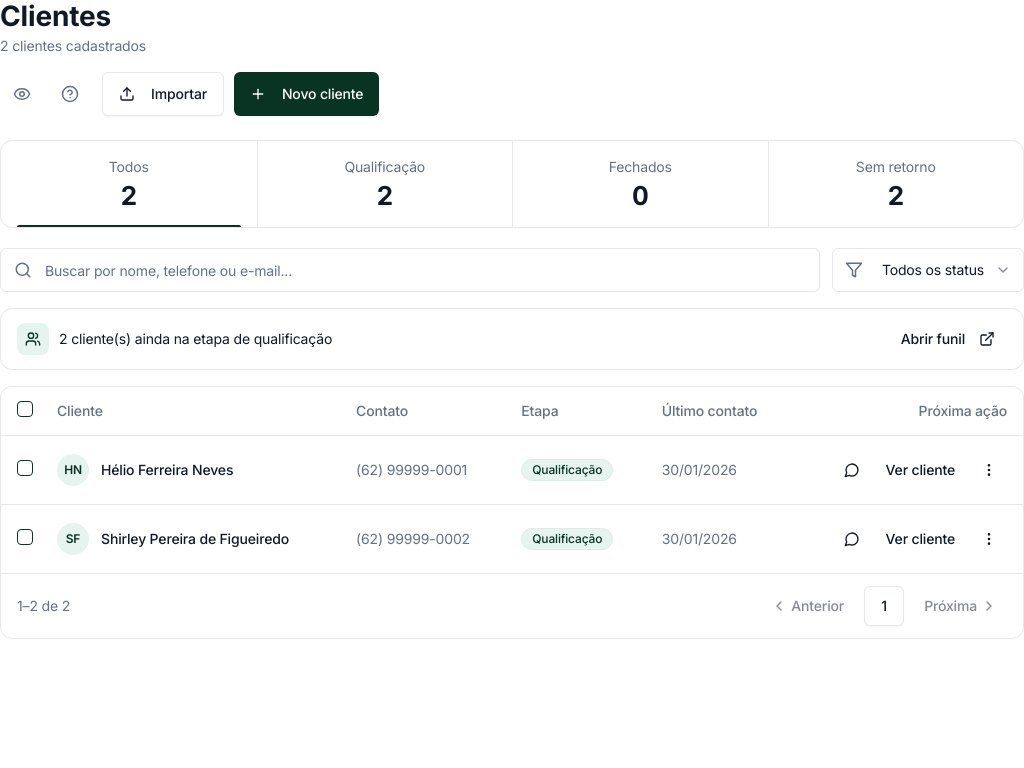
Test: "Mostrar na lista" fecha a caixa e destaca a linha do cliente
Step 1. Click the checkbox named "Selecionar Hélio Ferreira Neves" → point(25, 468), box 17,460 -> 33,476
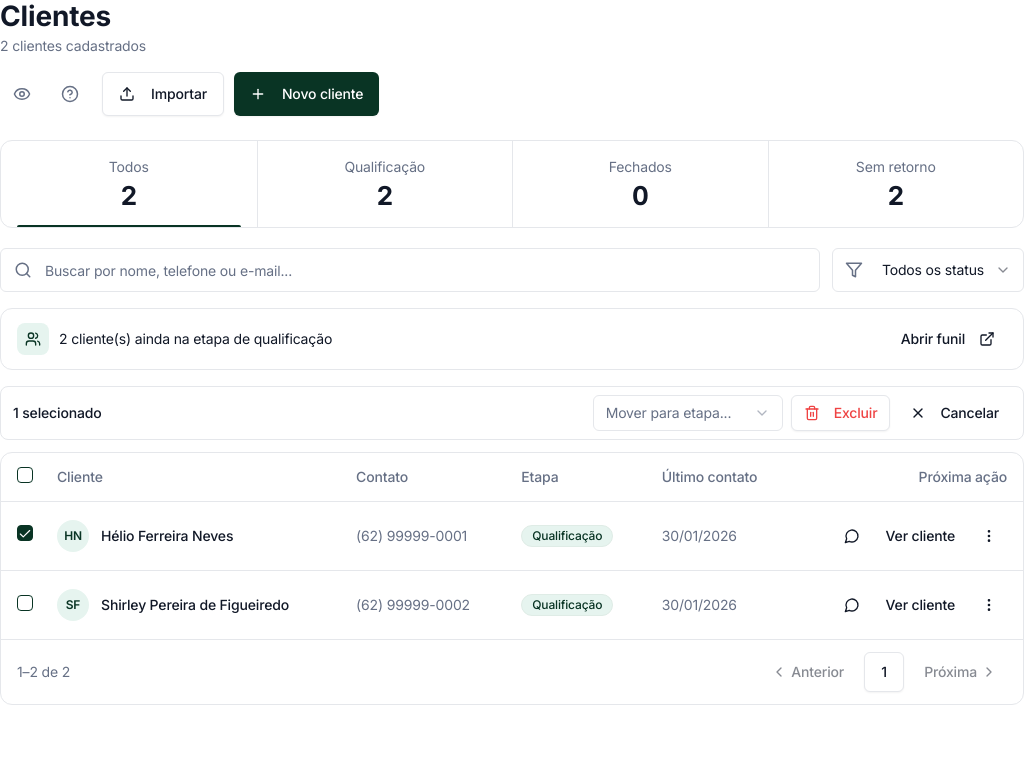
Step 2. Click the button "Excluir" → point(840, 413), box 791,395 -> 890,431
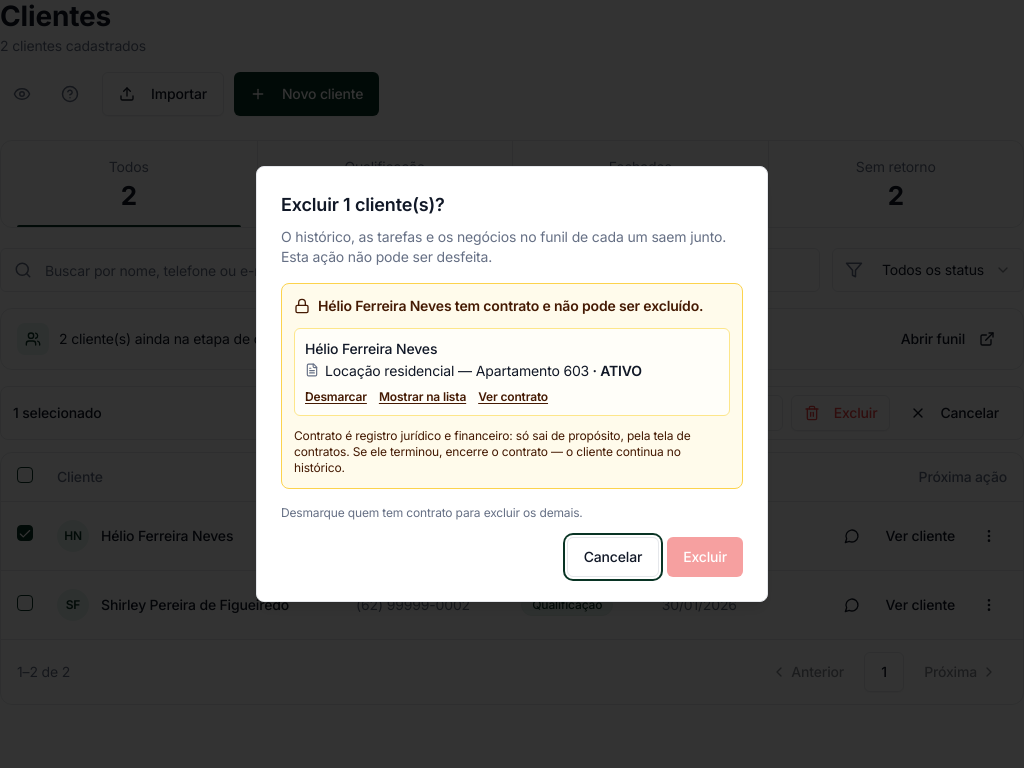
Step 3. Click the button "Mostrar na lista" → point(423, 397), box 379,389 -> 466,405
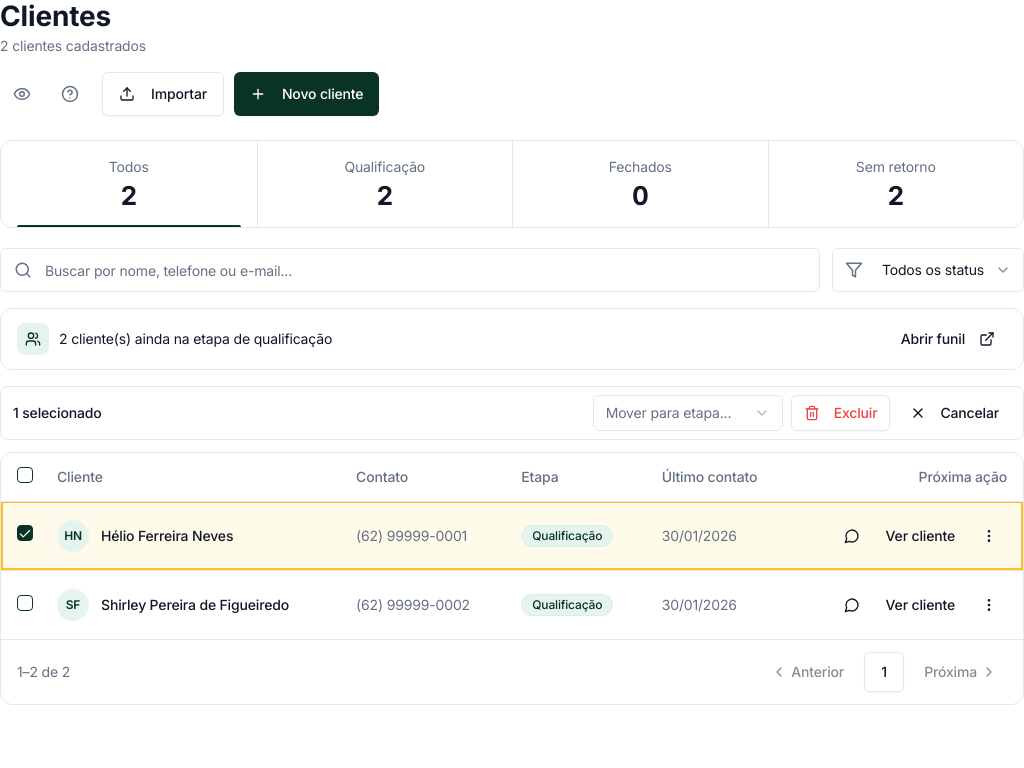
Now the dialog is gone
